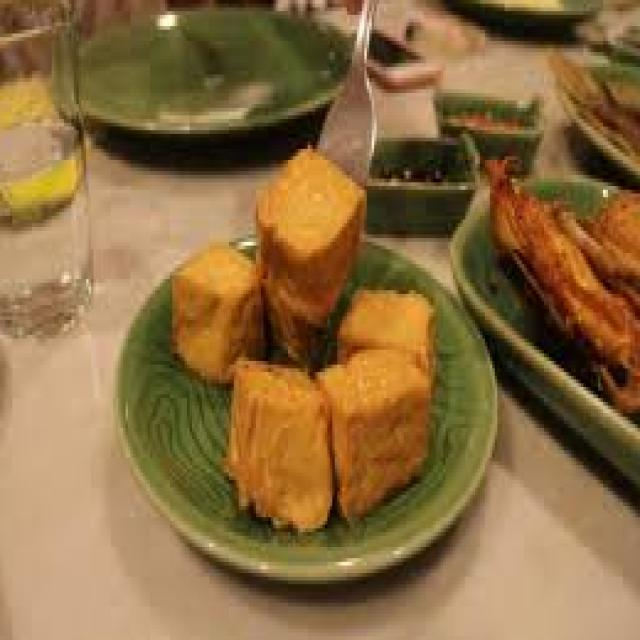tahu: (238, 146, 374, 327), (228, 346, 332, 530), (324, 334, 433, 492), (152, 231, 264, 383), (326, 270, 442, 402)
